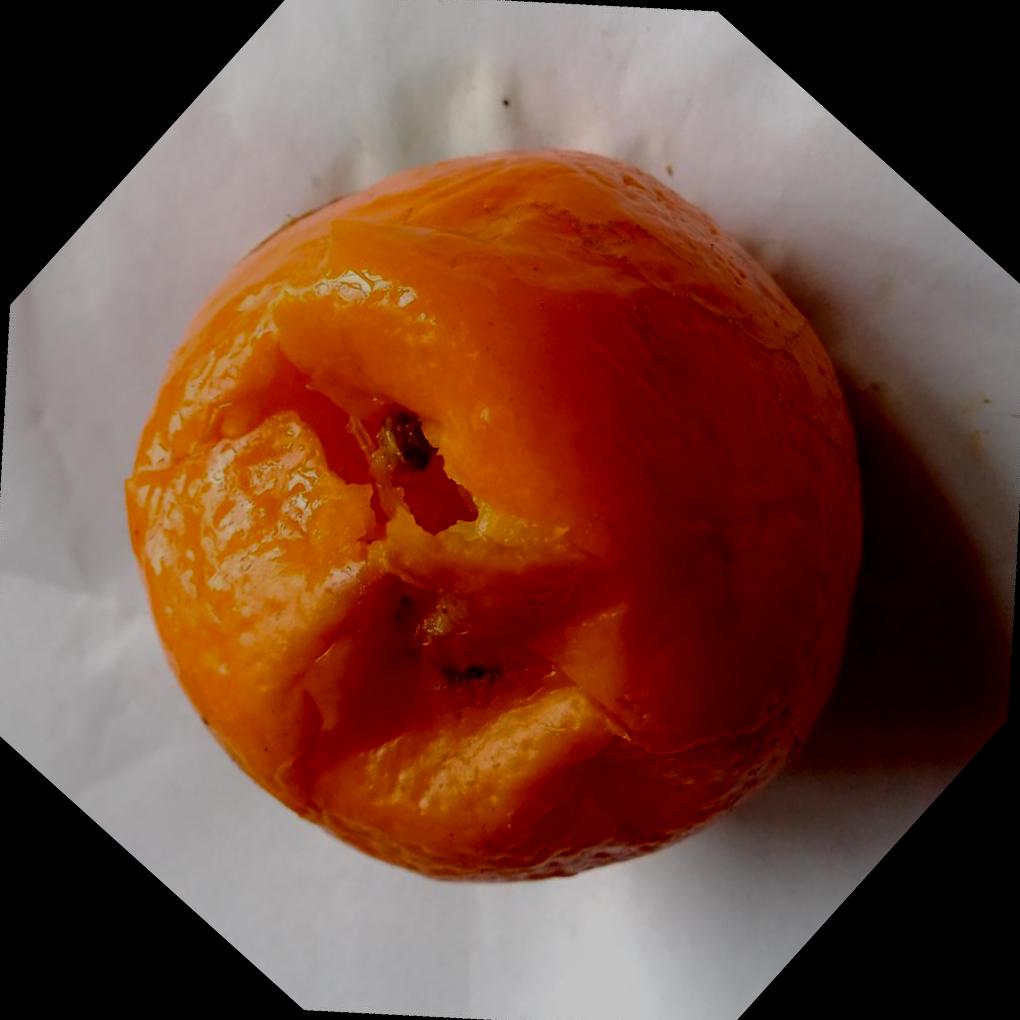FreshOrange: (123, 145, 868, 883)
